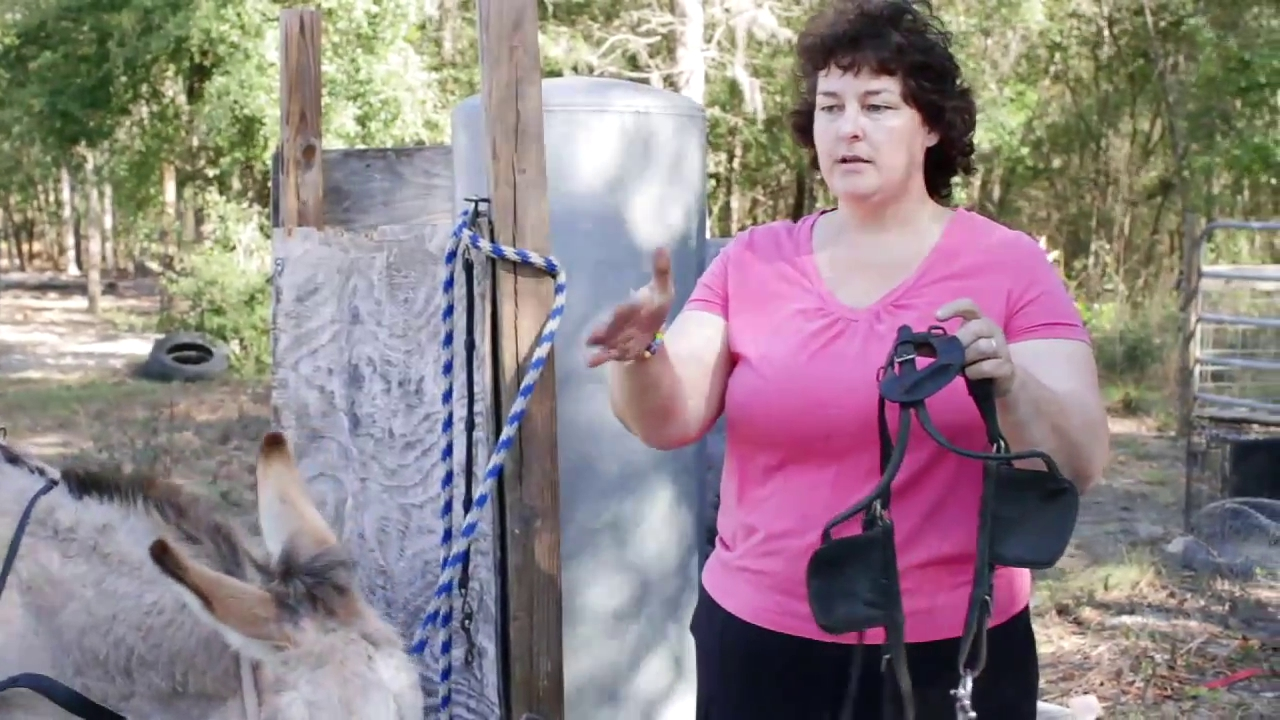person: (586, 1, 1111, 720)
